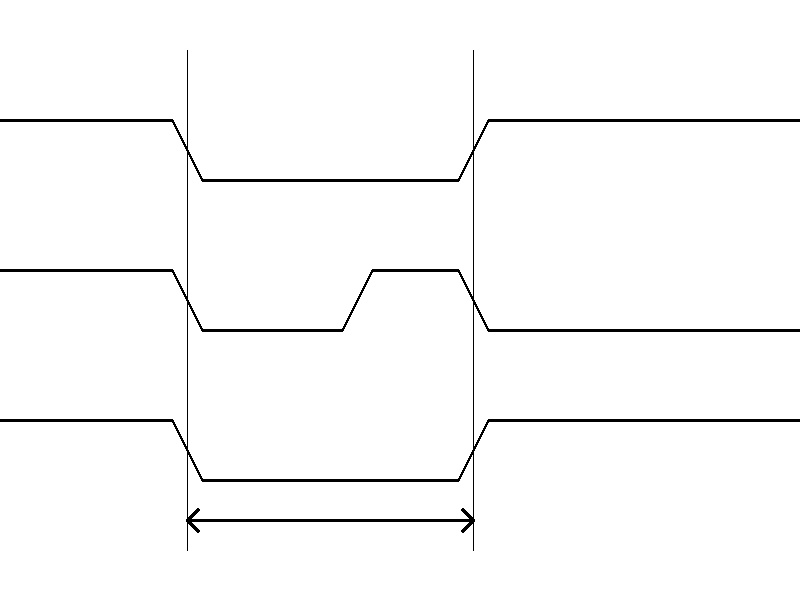double_arrow: (187, 505, 473, 535)
